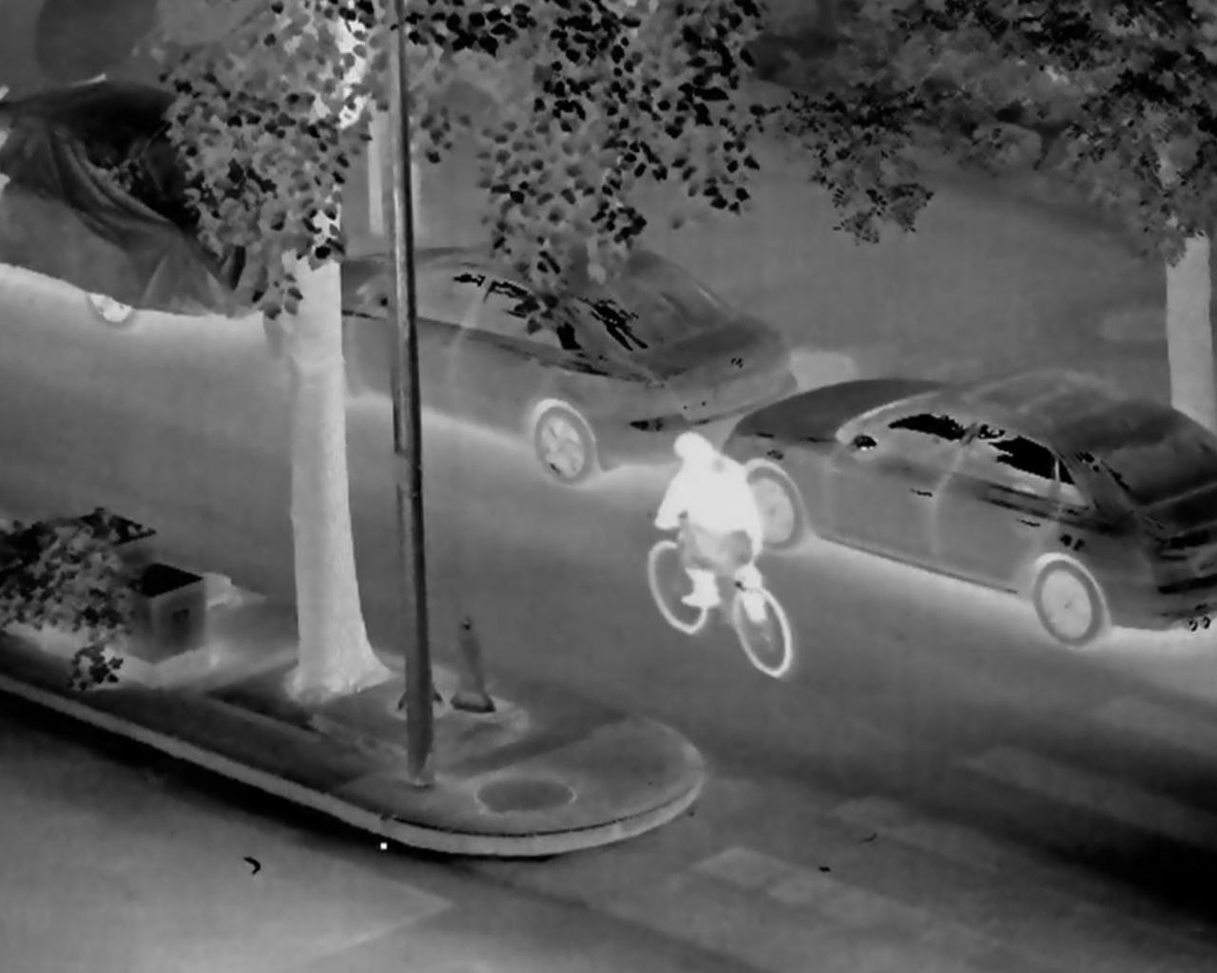person: (644, 404, 770, 633)
